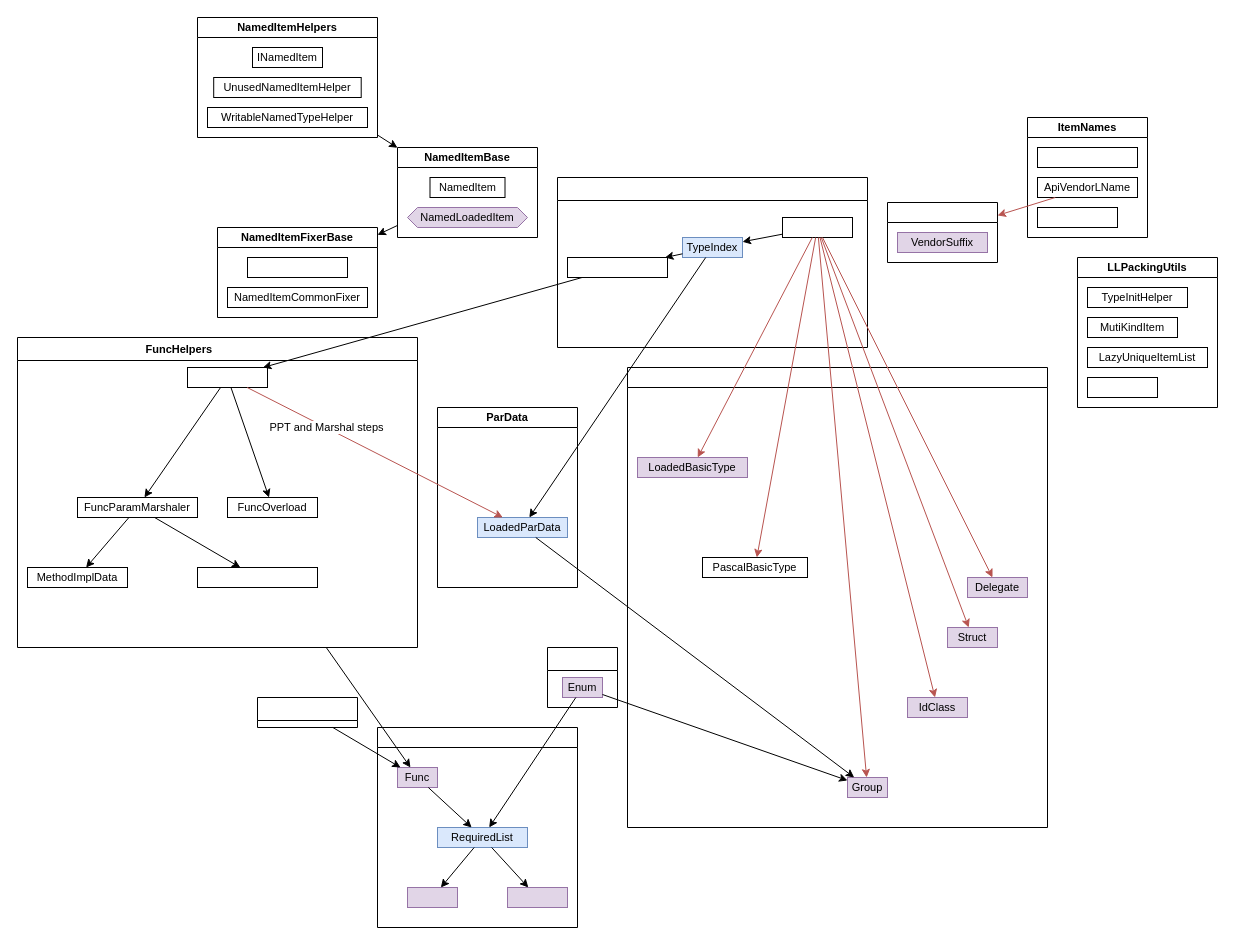
Image size: 1235x945. Some labels were removed from this diagram. The shapes that lost their labels are listed below. From the top down, each one's box as (x1, y1, x2, y2) in pixels, then its label:
(1036, 146, 1138, 168): TypeComboName
(782, 216, 852, 238): TypeLookup
(886, 202, 998, 262): VendorSuffixItems
(1036, 206, 1118, 228): FeatureName
(246, 256, 348, 278): NamedItemFixer
(566, 256, 668, 278): TypeRefOrIndex
(556, 176, 868, 348): TypeRefering
(186, 366, 268, 388): FuncParamT
(1086, 376, 1158, 398): ApiManager
(196, 566, 318, 588): FuncOvrMarshalers
(626, 366, 1048, 828): NamedTypeItems
(546, 646, 618, 708): EnumItems
(256, 696, 358, 728): ChoiseSets
(376, 726, 578, 928): CodeContainerItems
(406, 886, 458, 908): Feature
(506, 886, 568, 908): Extension
